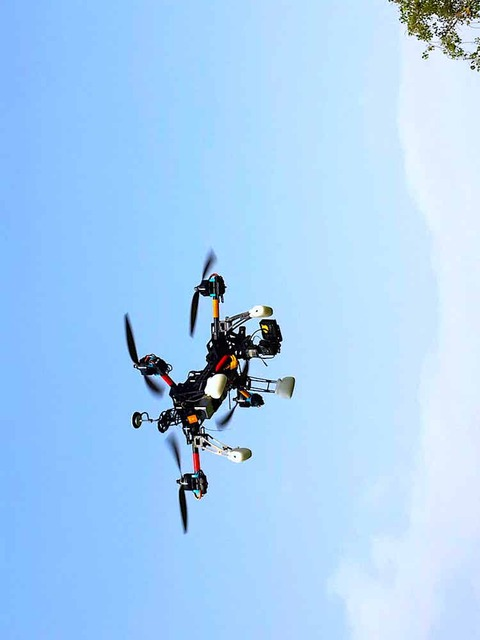drone: (124, 250, 295, 536)
